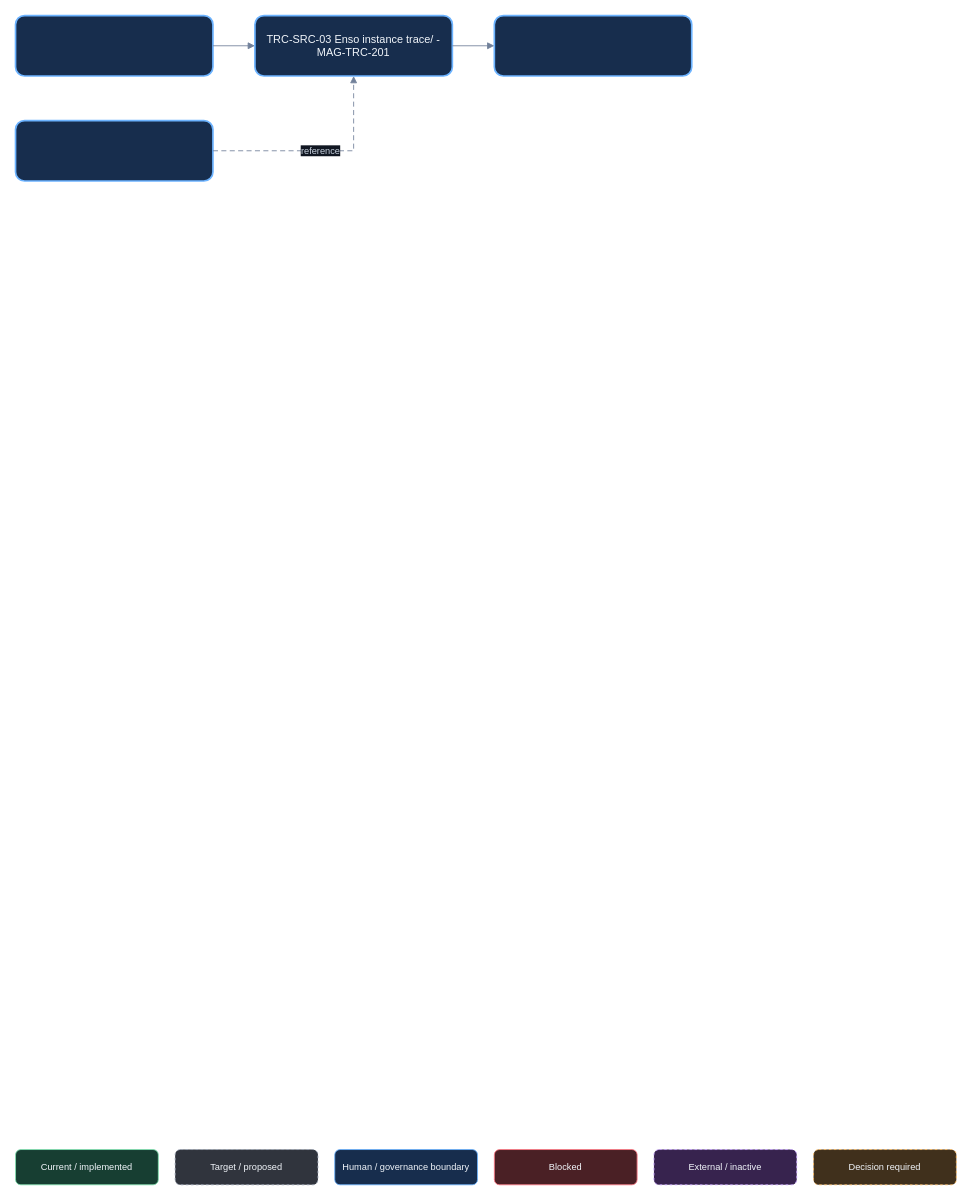
This 971x1200 diagram has some shape labels left out. The shapes that lost their labels are listed below. From the top down, each one's centre as x and y in pixels, then its label:
pixel 113 45: TRC-SRC-01 blueprint - methodology - MAG-TRC-201
pixel 592 45: Constellations, Light Curves, Event Horizon, Spectrometer
pixel 113 150: TRC-SRC-02 TRACE repo + Observatory - MAG-TRC-201
